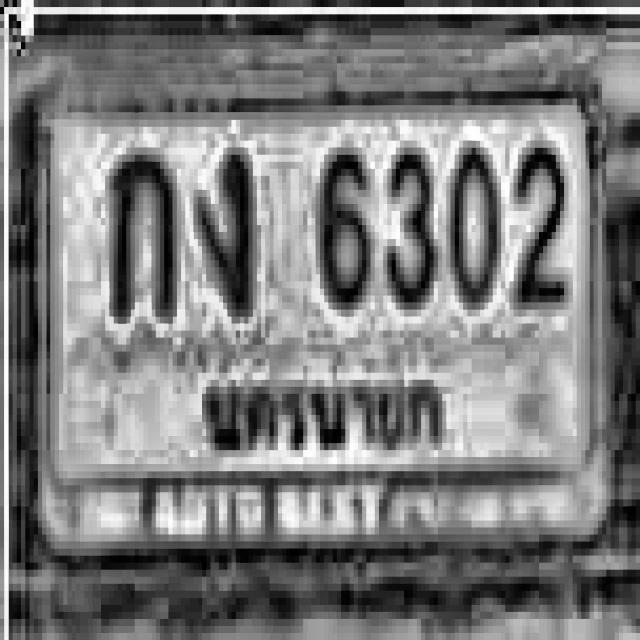license-plate: (35, 65, 616, 558)
